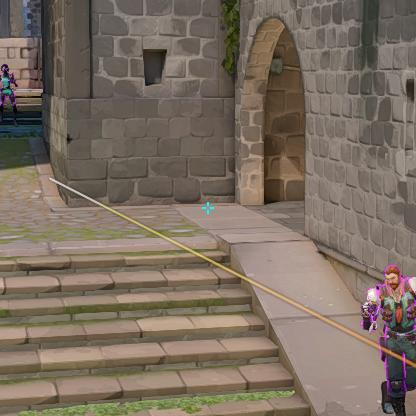enemyBody: (388, 291, 412, 333), (4, 75, 8, 88)
enemyHead: (387, 272, 401, 287), (2, 66, 8, 72)
